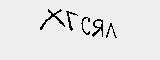Г: (66, 8, 80, 32)
Л: (105, 21, 118, 39)
С: (80, 15, 93, 35)
Х: (40, 6, 64, 32)
Я: (92, 17, 103, 40)
